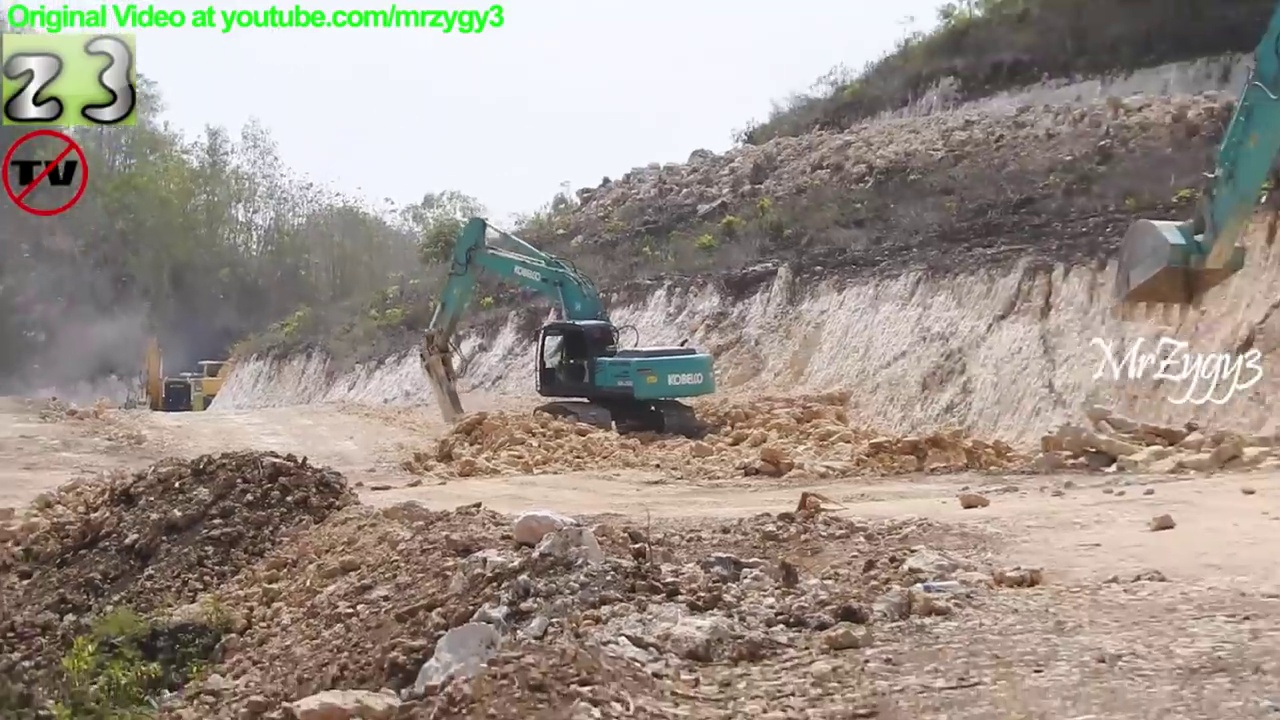excavator: (1107, 5, 1280, 330), (175, 312, 293, 413), (129, 328, 192, 434)
excavator breaker: (412, 212, 723, 445)
truck: (167, 386, 207, 421)
